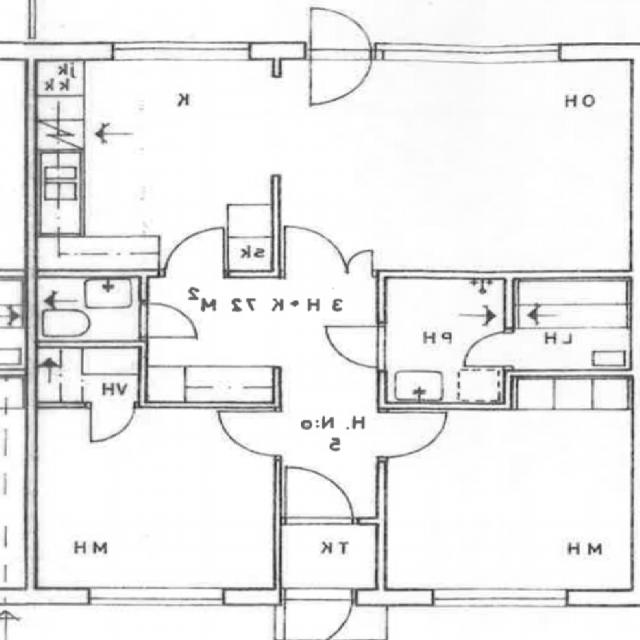door: (286, 465, 353, 524), (311, 44, 371, 106), (311, 0, 371, 60), (286, 222, 348, 278), (287, 588, 353, 640), (164, 224, 224, 278), (216, 411, 282, 455), (377, 413, 443, 456), (325, 326, 386, 367), (461, 332, 513, 366), (140, 303, 192, 336), (92, 402, 134, 442), (349, 252, 373, 278)
